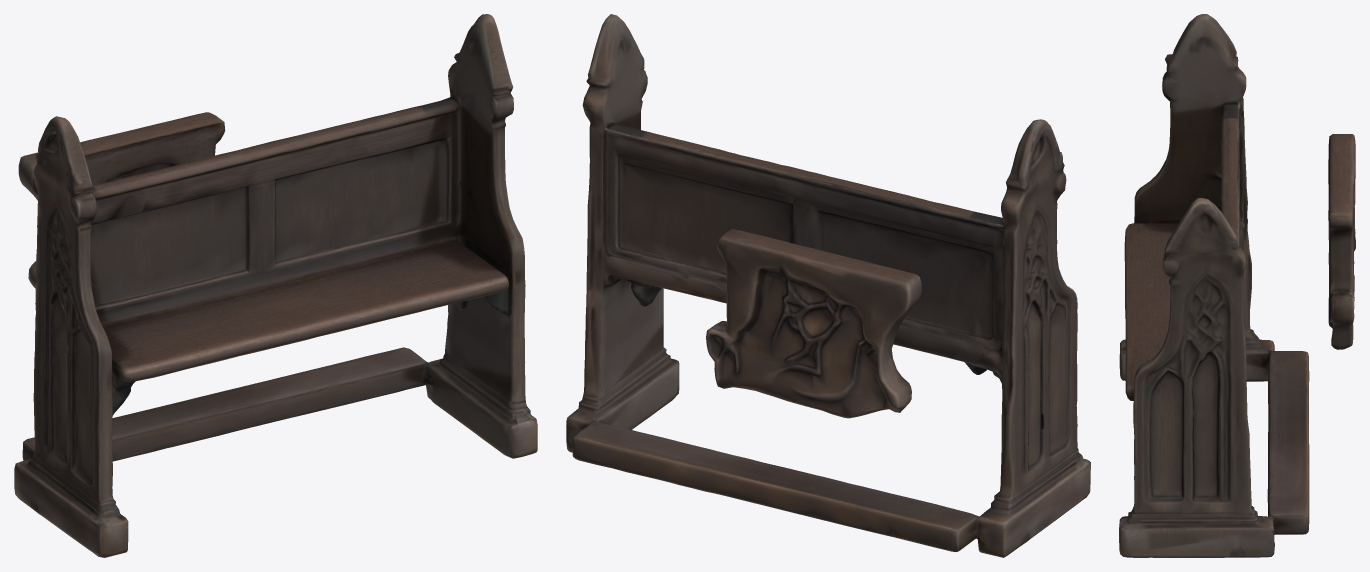
Rendered from prayer_pew.glb.
3 renders of one model, left to right at view 1: azimuth 30°, elevation 25°; view 2: azimuth 150°, elevation 25°; view 3: azimuth 270°, elevation 25°, orthographic. The views are drawn at different scales.
Bounding box in the file's own units: 2 × 1.78 × 1.06.
1 material, 1 textured.
